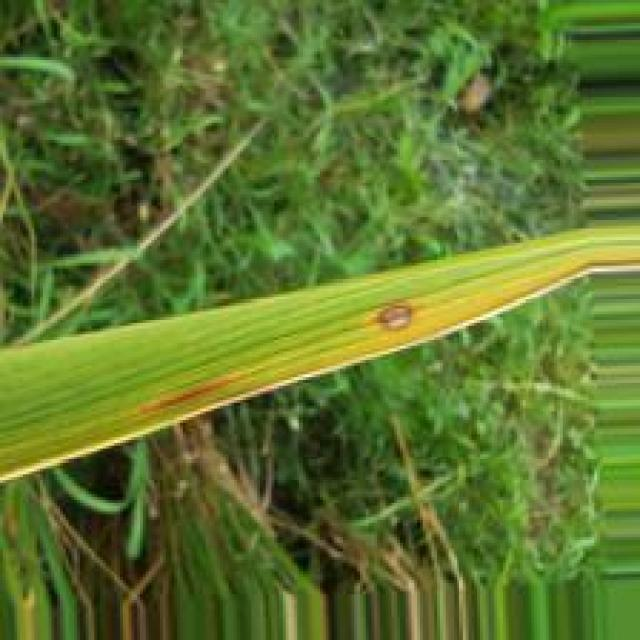Brown_Spot: (130, 369, 242, 423), (365, 296, 416, 335)
